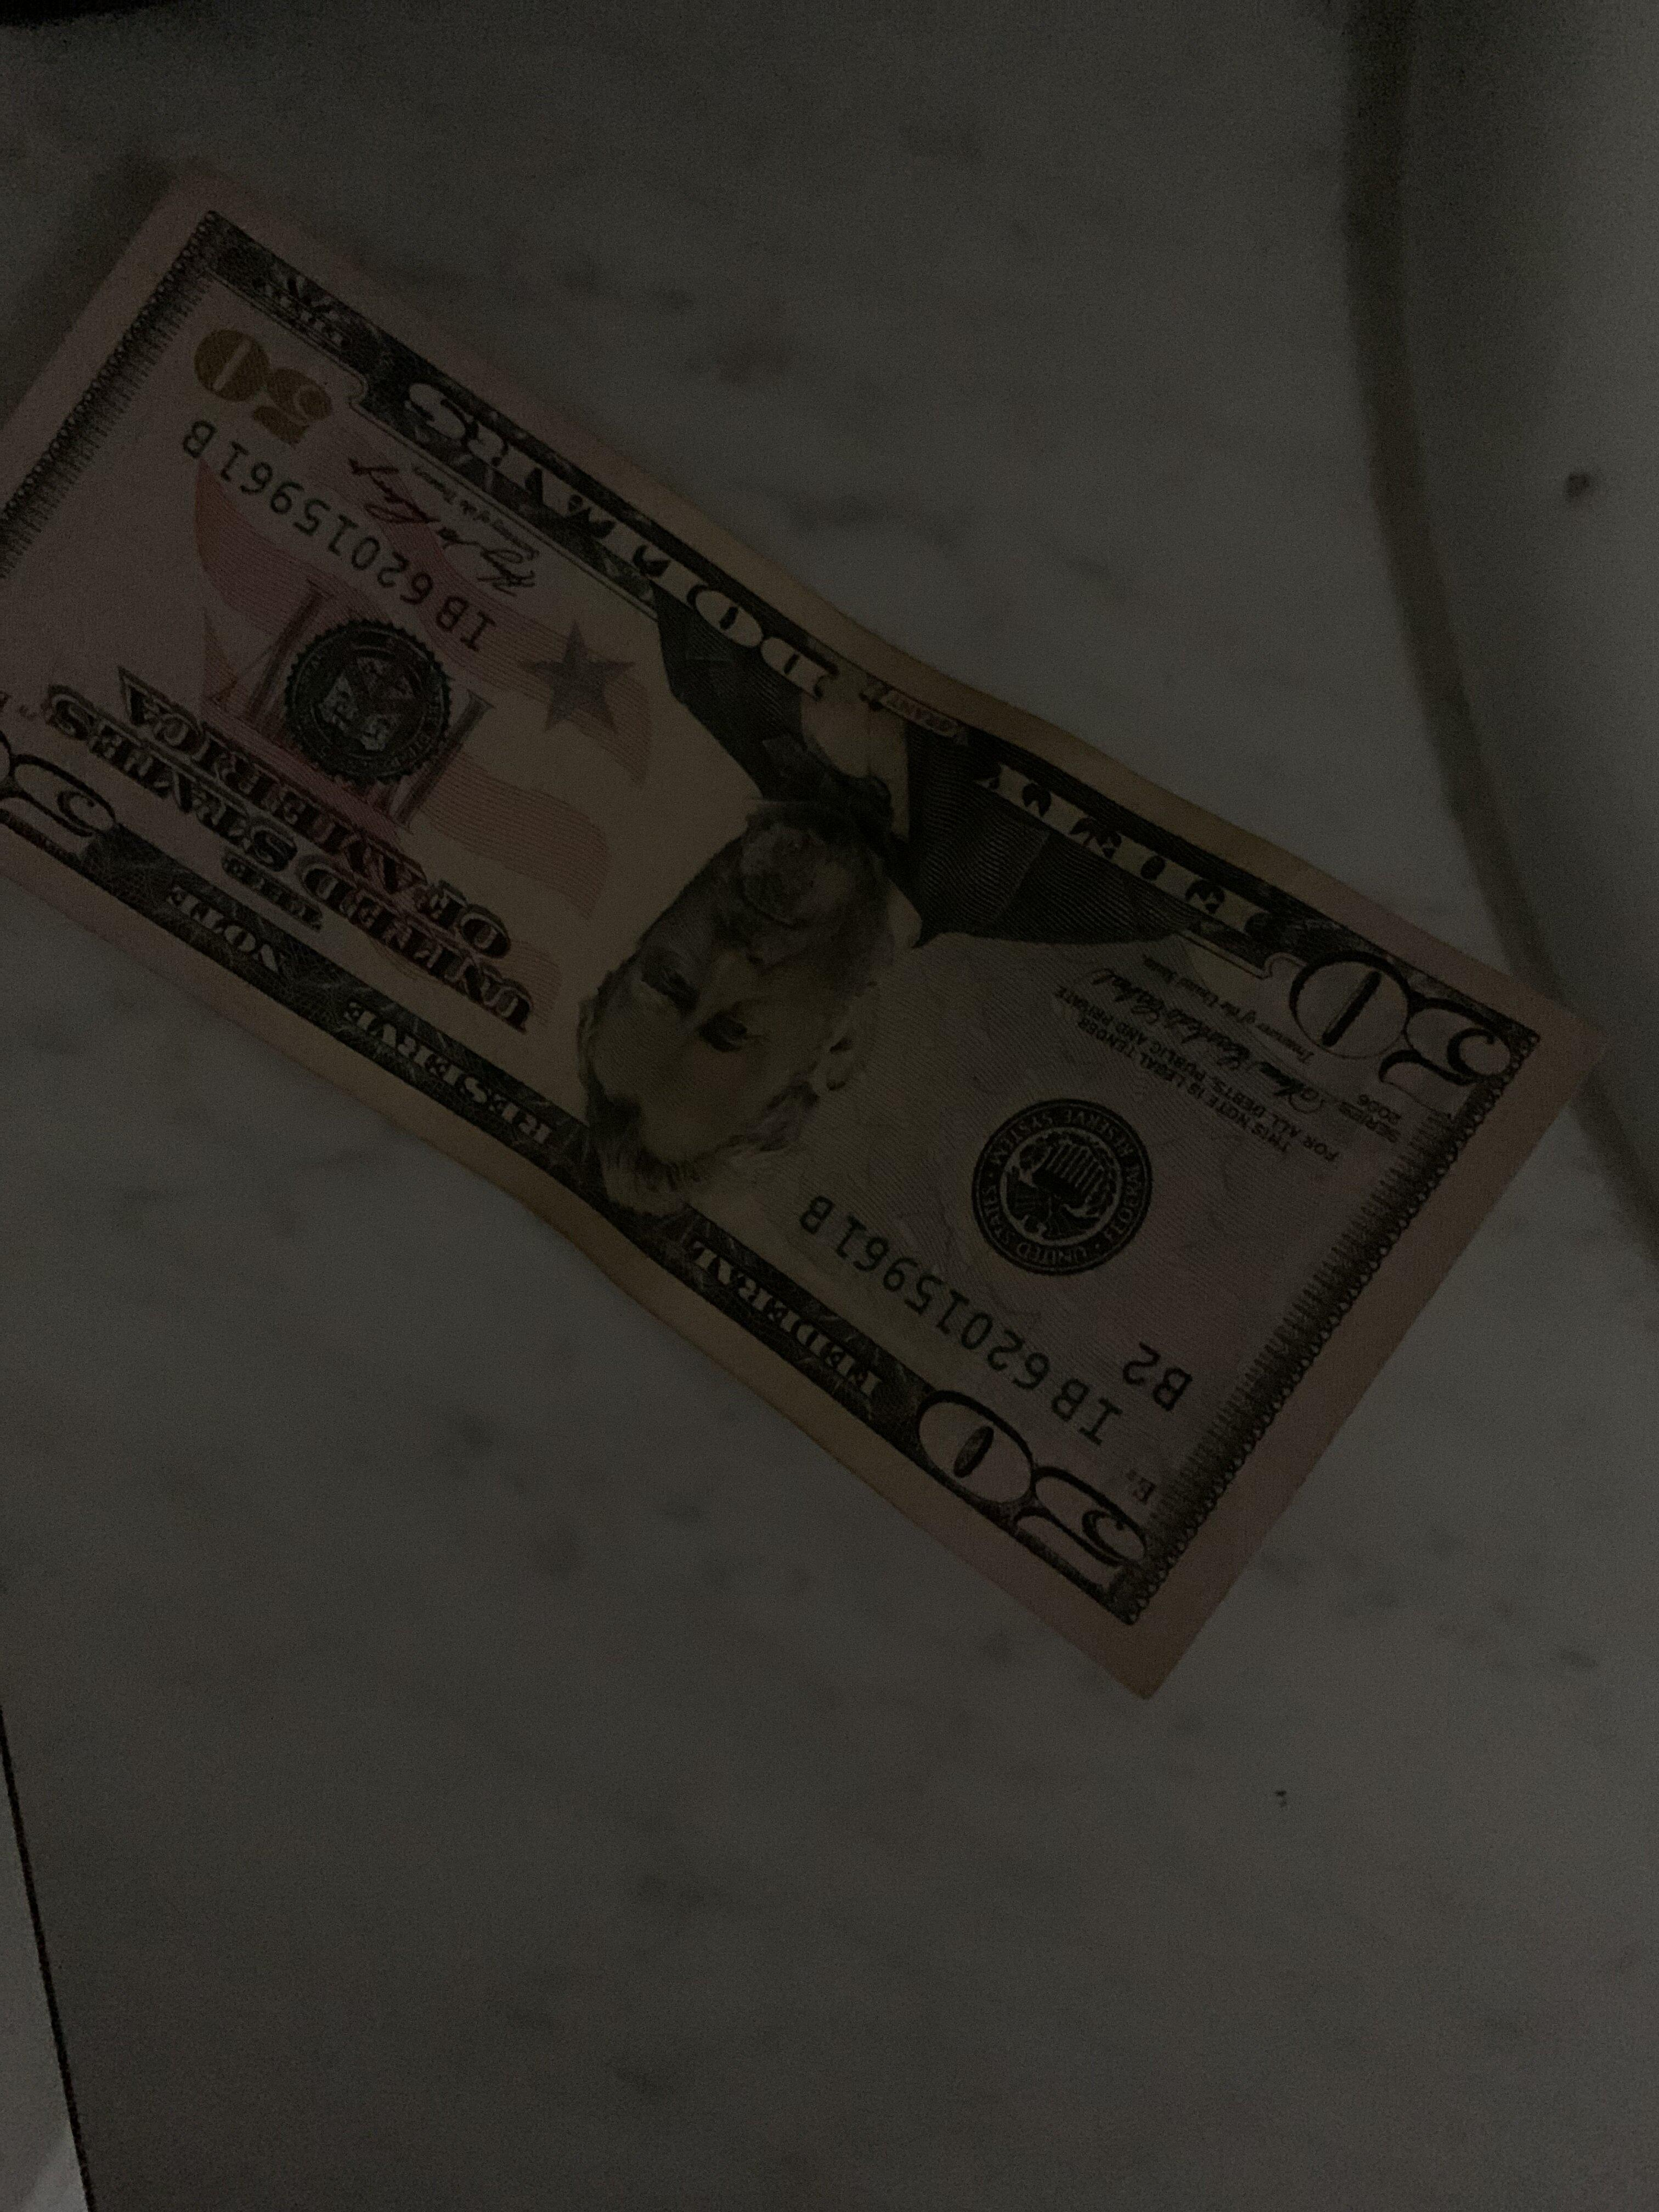FiftyBill: (7, 124, 1647, 1761)
